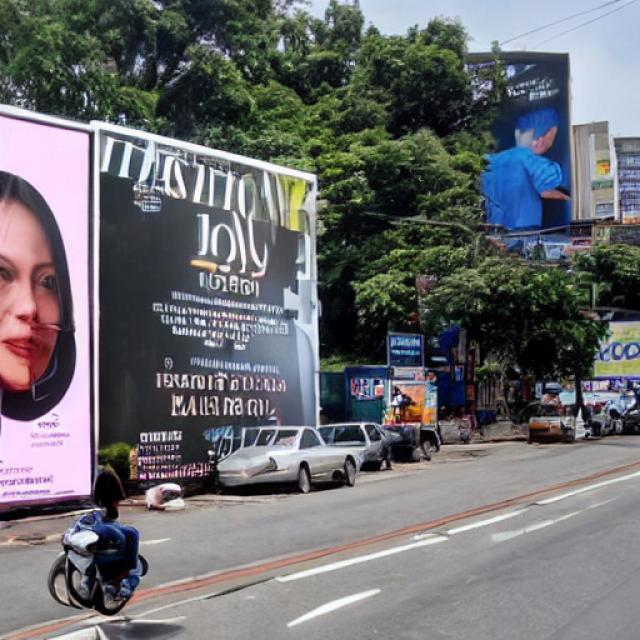Billboard: (97, 114, 317, 477), (0, 101, 92, 522), (461, 48, 570, 237)
